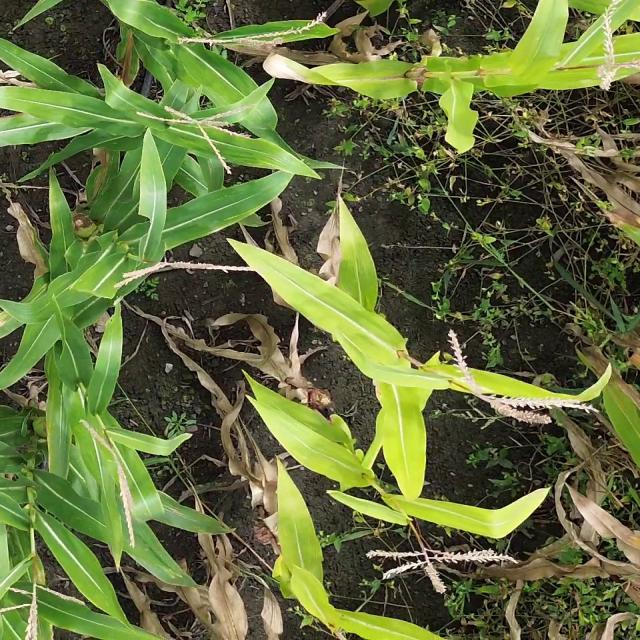gray-leaf-spot: (207, 133, 301, 225), (43, 403, 85, 461)
southern-leaf-blight: (139, 530, 208, 597), (26, 66, 109, 120)
